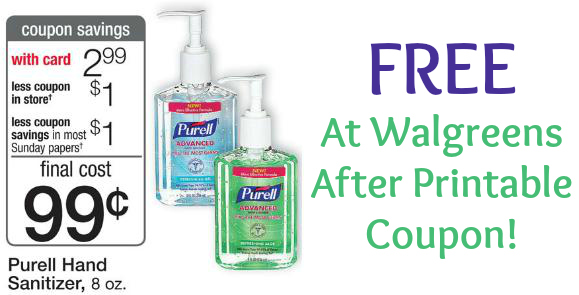Sanitizer: (211, 67, 304, 274), (152, 2, 237, 210)
